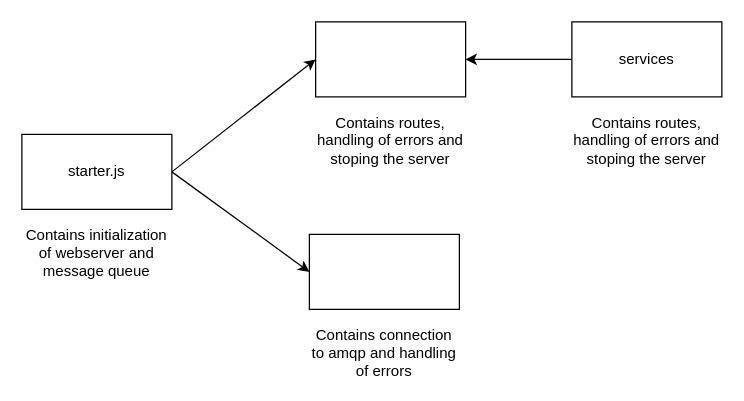
This 744x401 diagram has some shape labels left out. The centre of each missing label's shape, as x and y in pixels:
"message queue" goes at (x=383, y=271).
"webserver" goes at (x=390, y=59).
